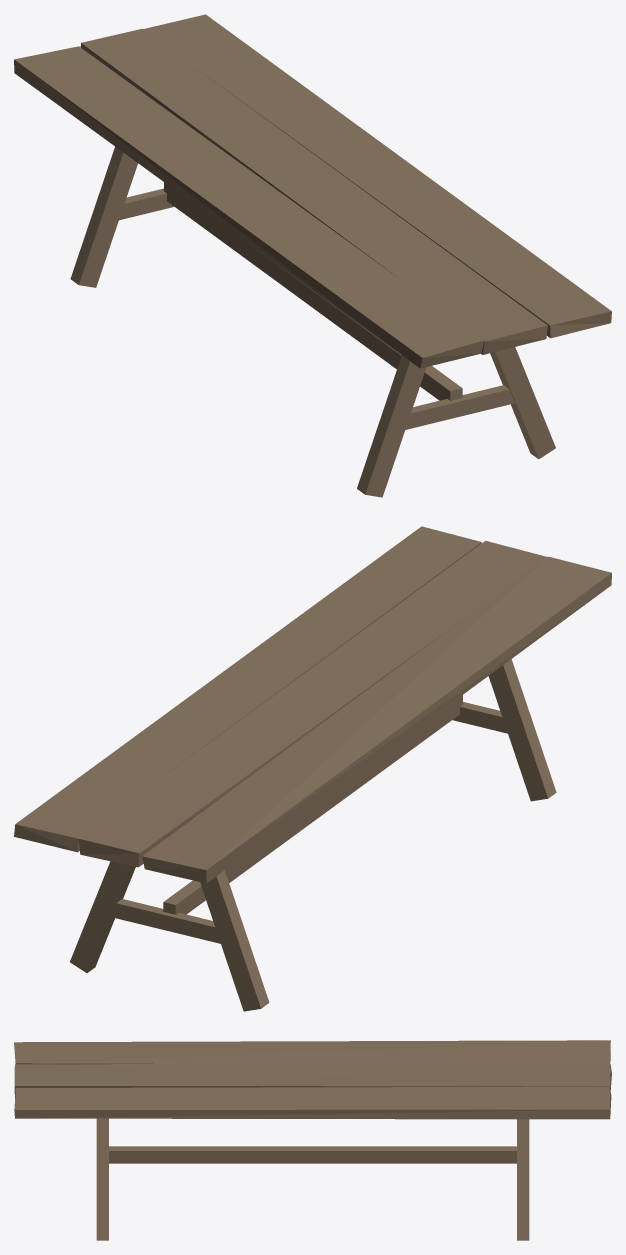
File: table_long.glb
3 renders of one model, top to bottom at view 1: azimuth 30°, elevation 25°; view 2: azimuth 150°, elevation 25°; view 3: azimuth 270°, elevation 25°, orthographic. The views are drawn at different scales.
Visible parts, largest first — view 1: wood; view 2: wood; view 3: wood.
Part boxes in pixels (x1,y1,x2,y2): wood: (14,14,611,497); wood: (14,526,611,1011); wood: (14,1040,611,1240).
Bounding box in the file's own units: 0.9304 × 0.8624 × 3.41.
